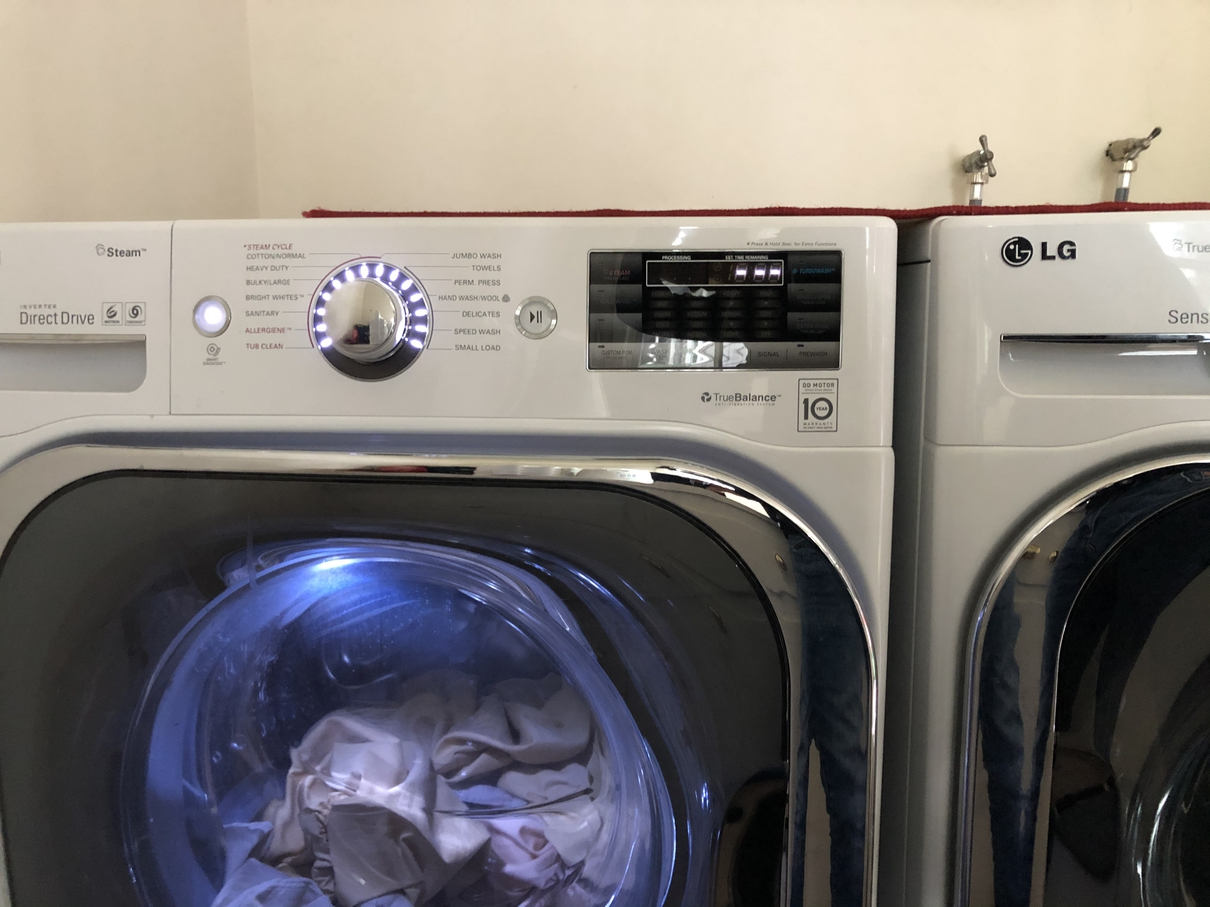status: (635, 249, 791, 293)
